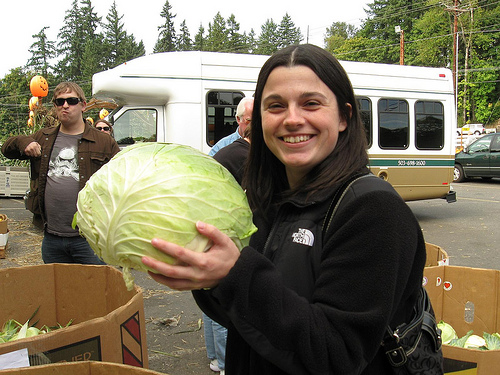cabbage: (71, 142, 258, 291)
